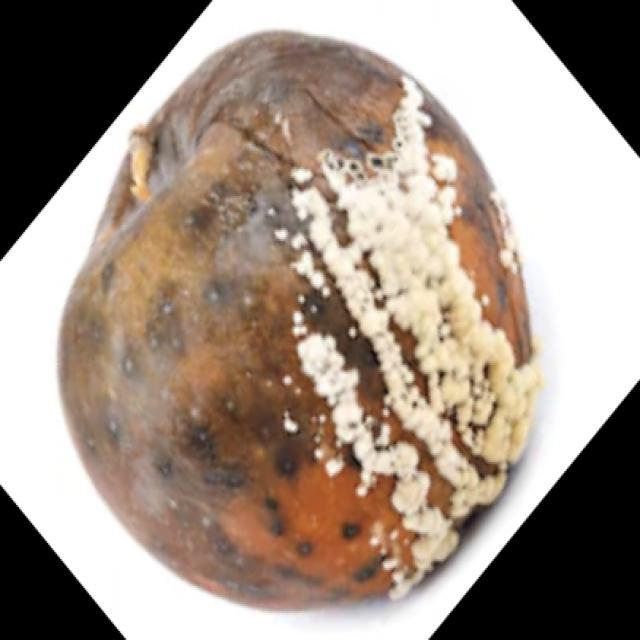Rotten: (57, 35, 578, 598)
